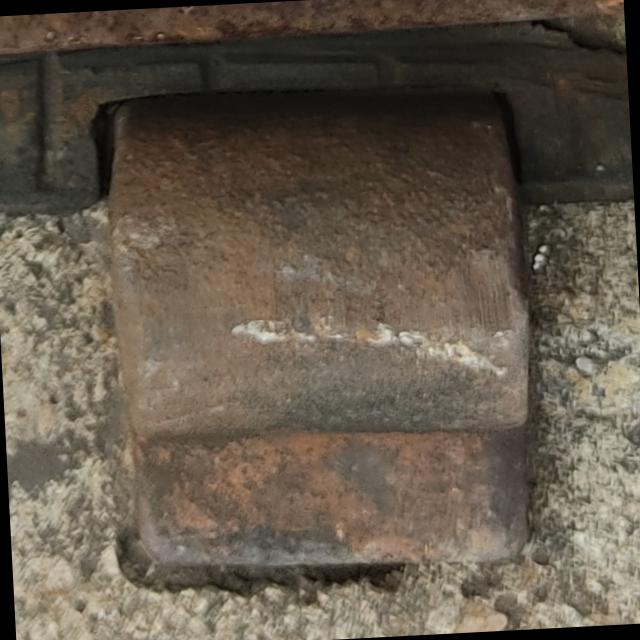track_bolt_missing: (84, 68, 546, 464)
